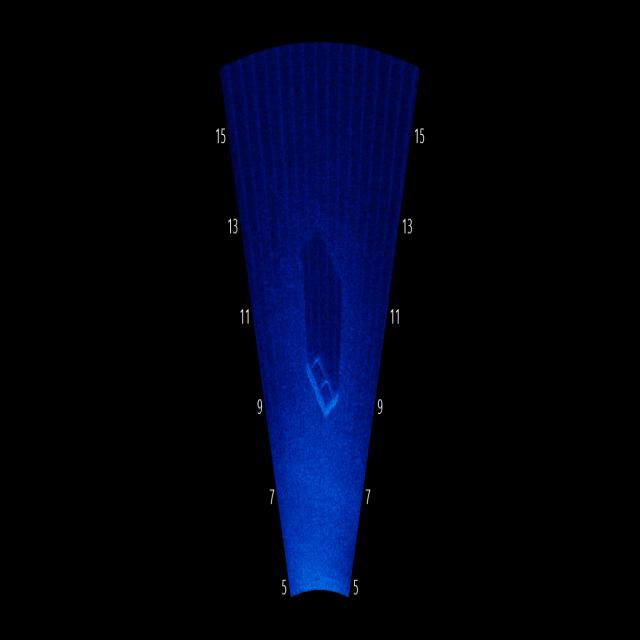square: (303, 338, 343, 418)
